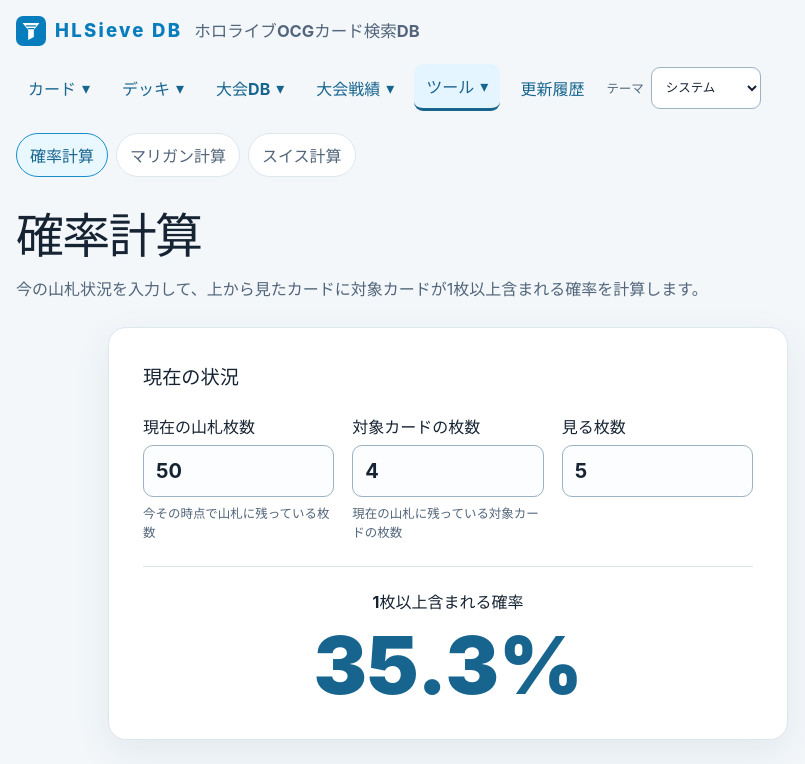
Test: ProbabilityPage › shows exact zero and one hundred percent endpoints
Replace the text in the number field labelled "対象カードの枚数 現在の山札に残っている対象カードの枚数" with "0". click: (448, 471)
box: left=352, top=445, right=544, bottom=497
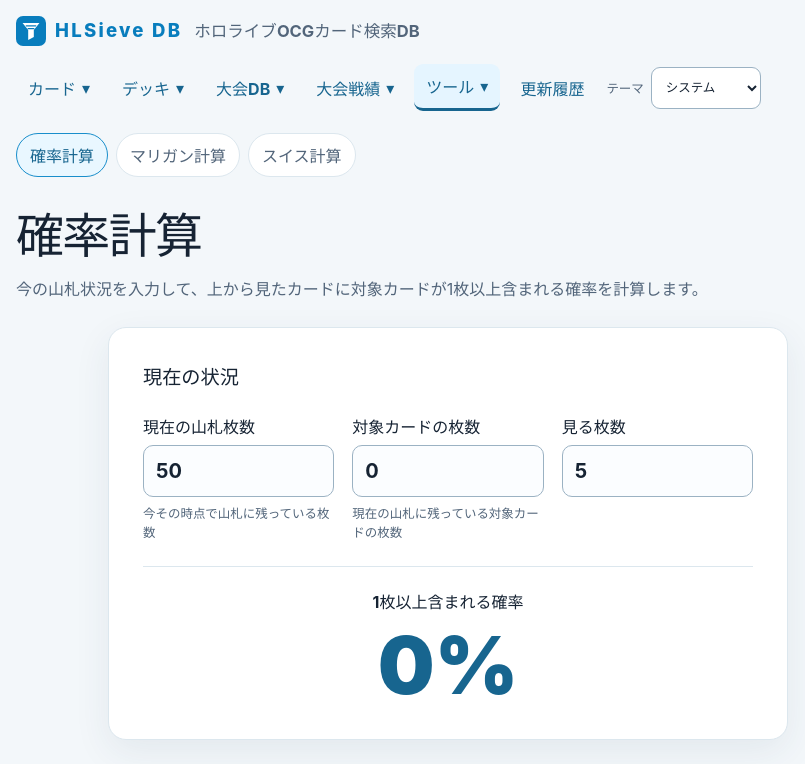
Expected: the text "0%" is shown, left=378, top=616, right=518, bottom=713
Replace the text in the number field labelled "対象カードの枚数 現在の山札に残っている対象カードの枚数" with "50". click: (448, 471)
box: left=352, top=445, right=544, bottom=497
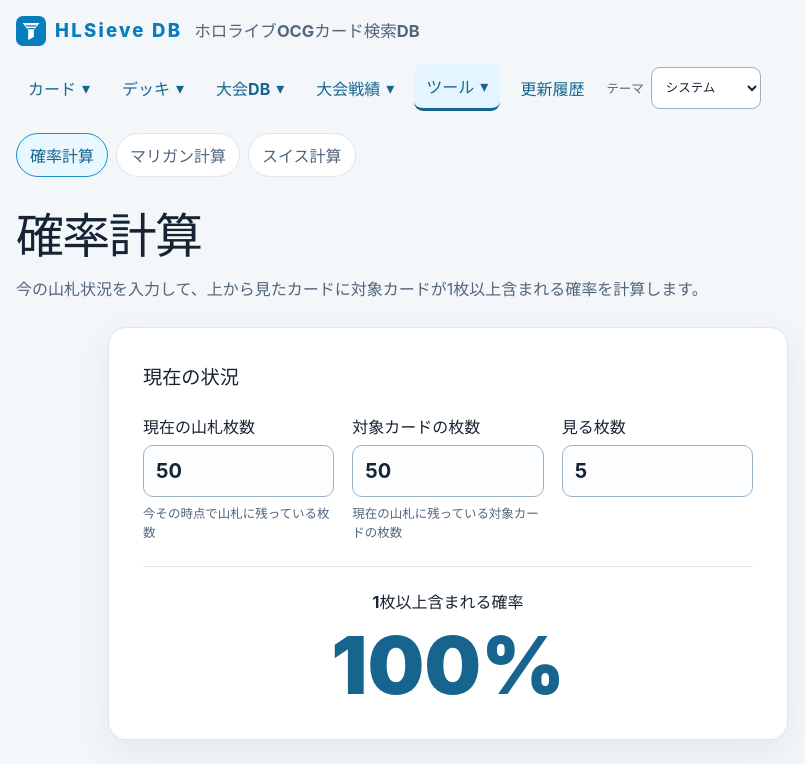
Expected: the text "100%" is shown, left=331, top=616, right=565, bottom=713
